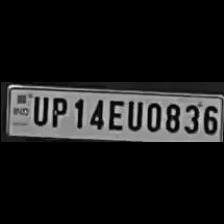0: (142, 99, 162, 133)
1: (68, 96, 84, 130)
3: (180, 102, 198, 134)
4: (86, 96, 104, 130)
6: (200, 101, 218, 135)
8: (162, 100, 180, 134)
E: (105, 97, 124, 131)
P: (46, 94, 68, 128)
U: (29, 93, 47, 126), (124, 97, 142, 130)
